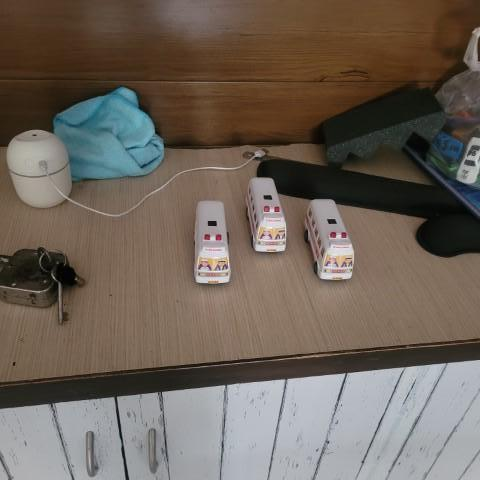ambulance: (303, 196, 355, 283), (190, 195, 235, 286), (241, 173, 289, 255)
